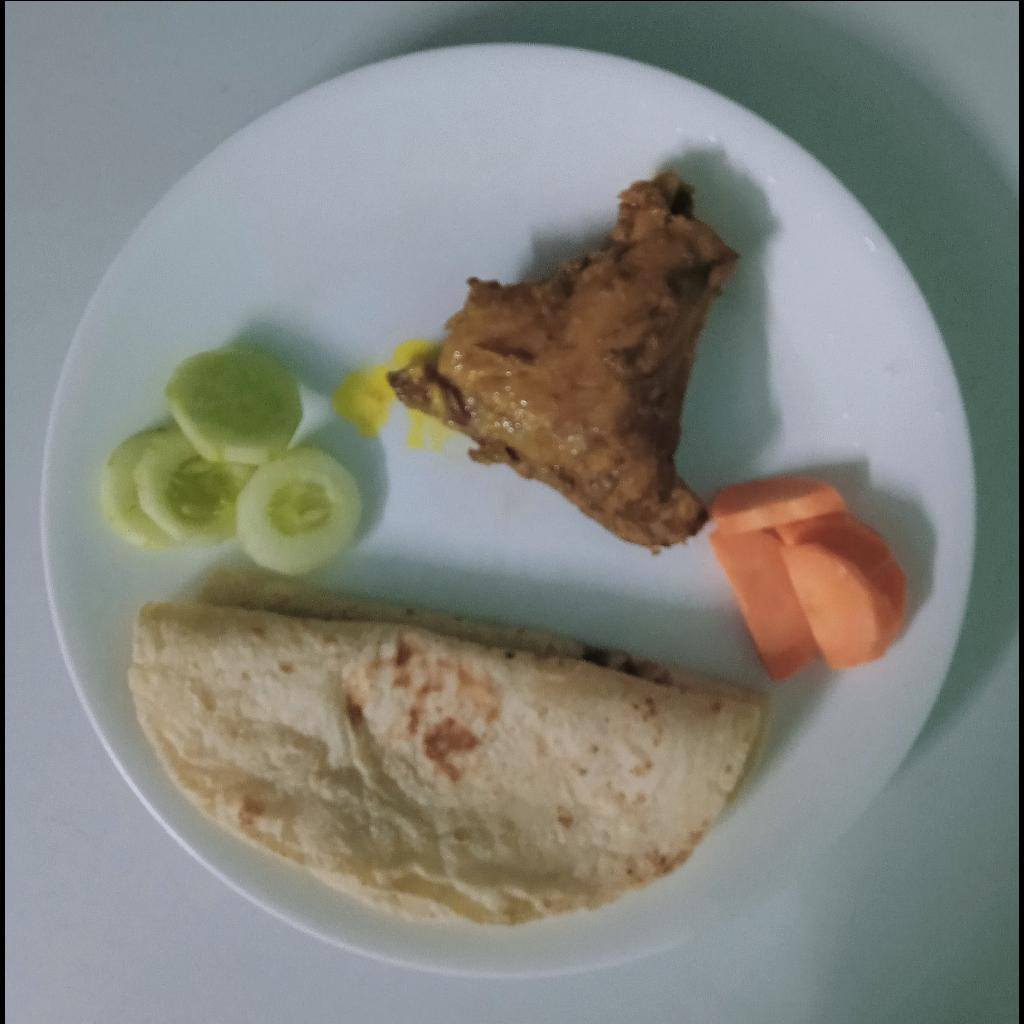carrot: (706, 473, 909, 683)
chicken: (388, 174, 734, 545)
cucumber: (104, 347, 365, 575)
ruti: (130, 565, 778, 928)
